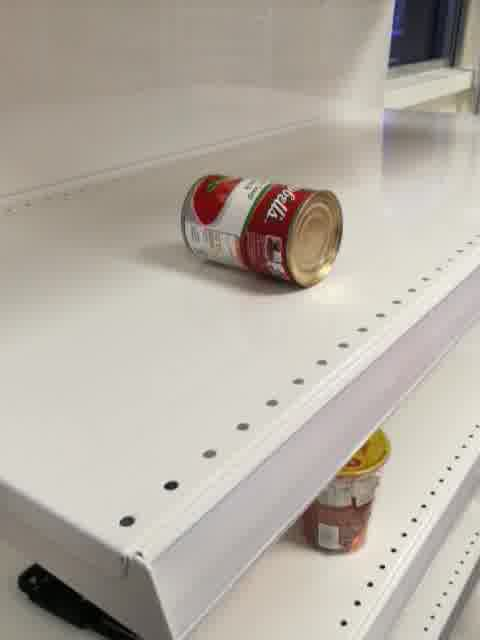tomatosoup: (179, 172, 345, 292)
